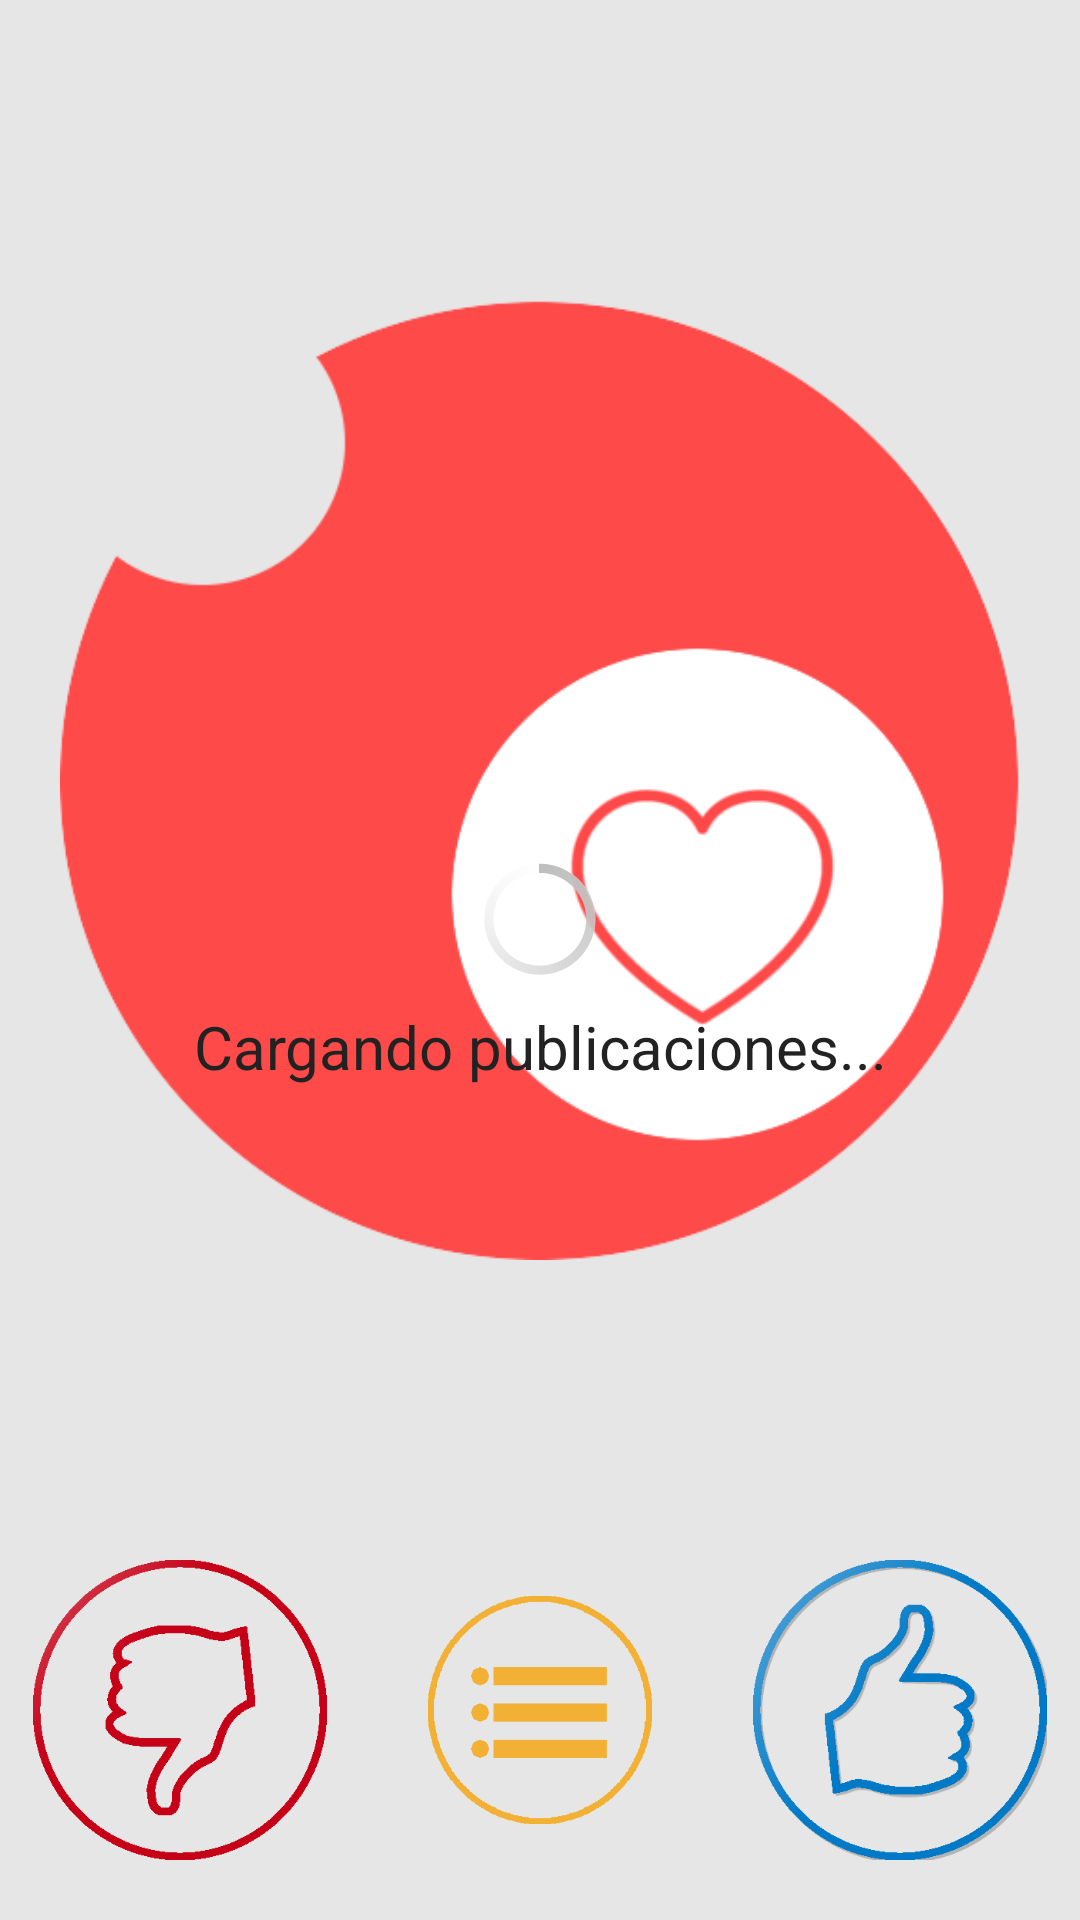

Icons on this 1080×1920 Android screen, each with the point to tap as point (x, y):
detail: point (540, 1710)
thumb down: point (180, 1710)
thumb up: point (900, 1710)
